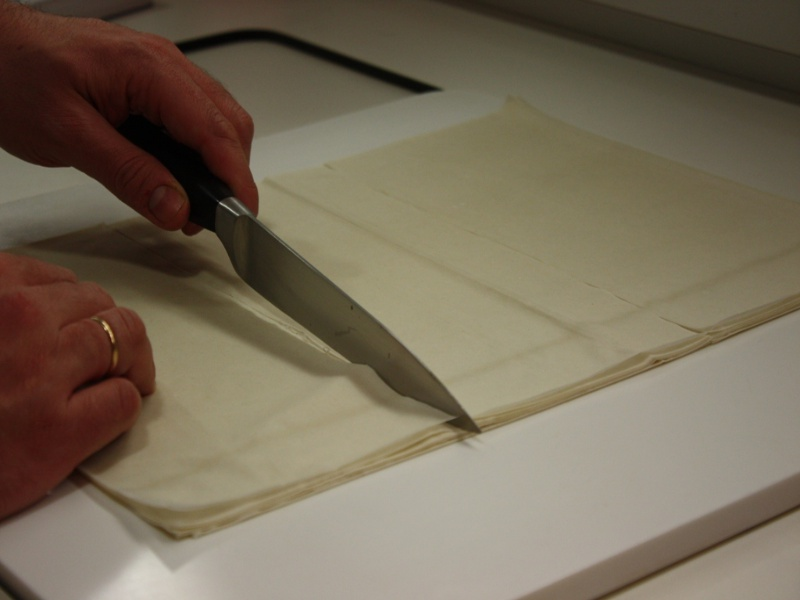knife: (116, 116, 486, 440)
